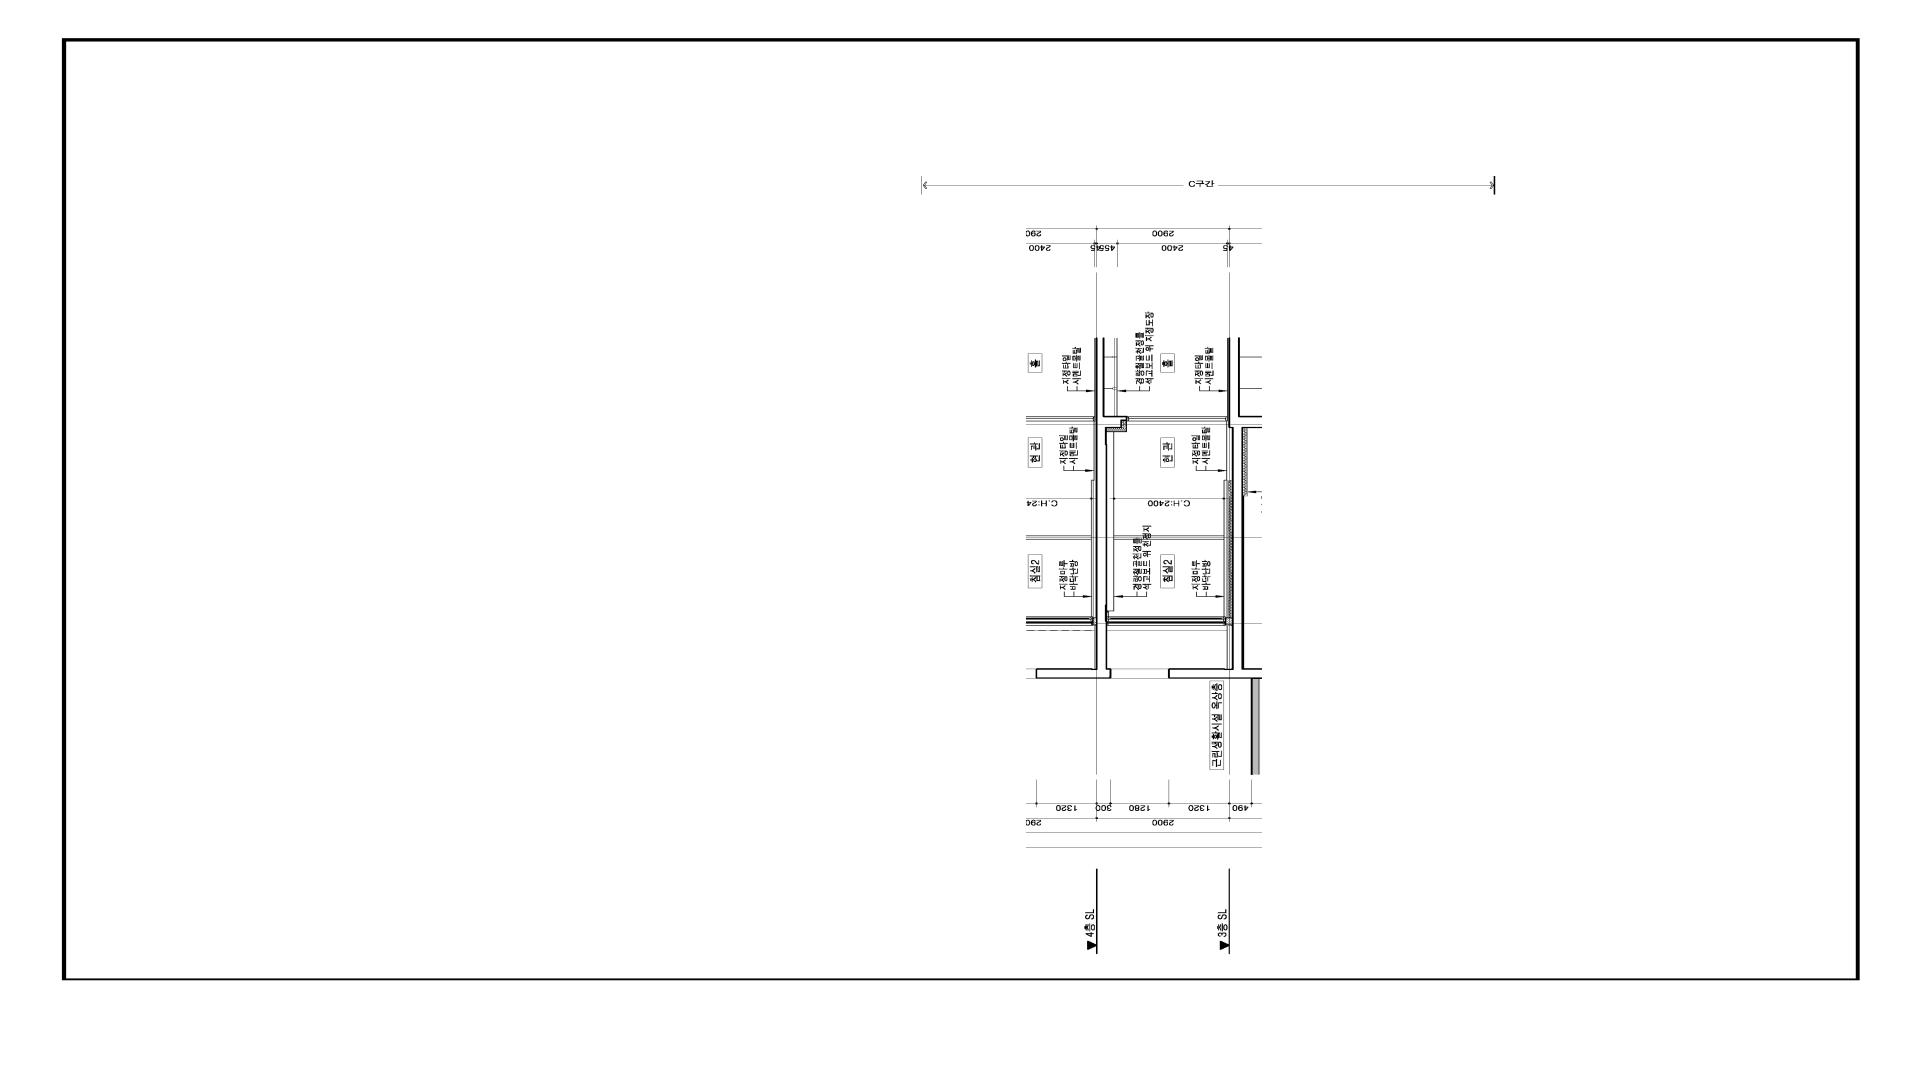wall: (1168, 416, 1244, 679), (1096, 416, 1127, 679), (1114, 535, 1228, 540), (1226, 617, 1232, 625)
window: (1107, 616, 1226, 631), (1127, 416, 1228, 424), (1111, 669, 1168, 678)
